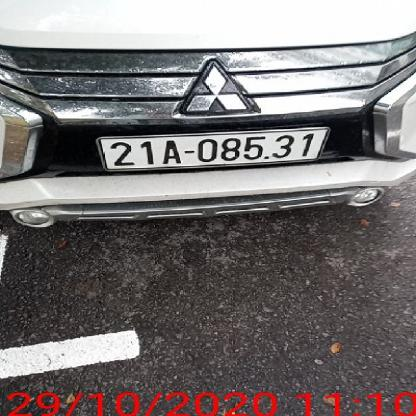biensoxe: (94, 129, 330, 170)
